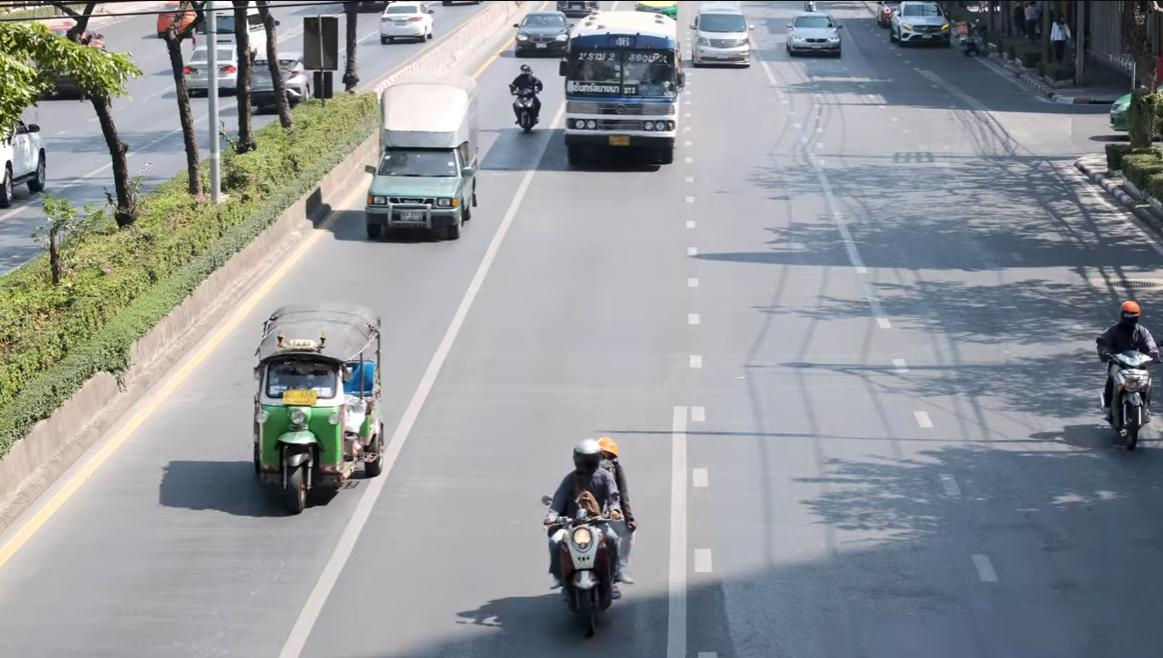bus: (563, 0, 743, 213)
car: (777, 5, 871, 120)
motorcycle: (536, 399, 736, 658), (1018, 267, 1163, 467)
tricycle: (229, 280, 442, 530)
van: (361, 42, 523, 138)
